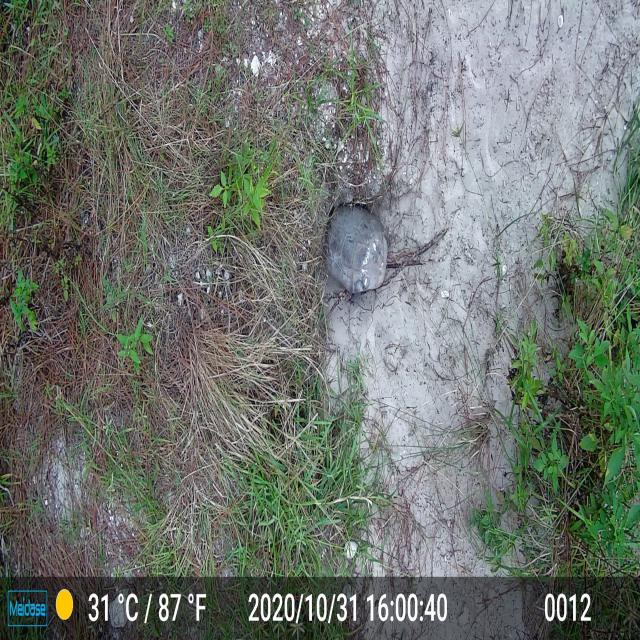tortoise: (319, 205, 393, 303)
